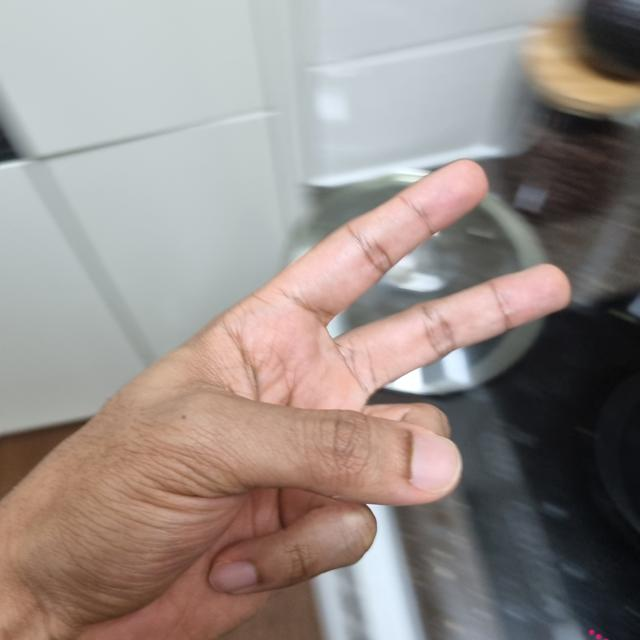Scissors: (0, 164, 571, 638)
